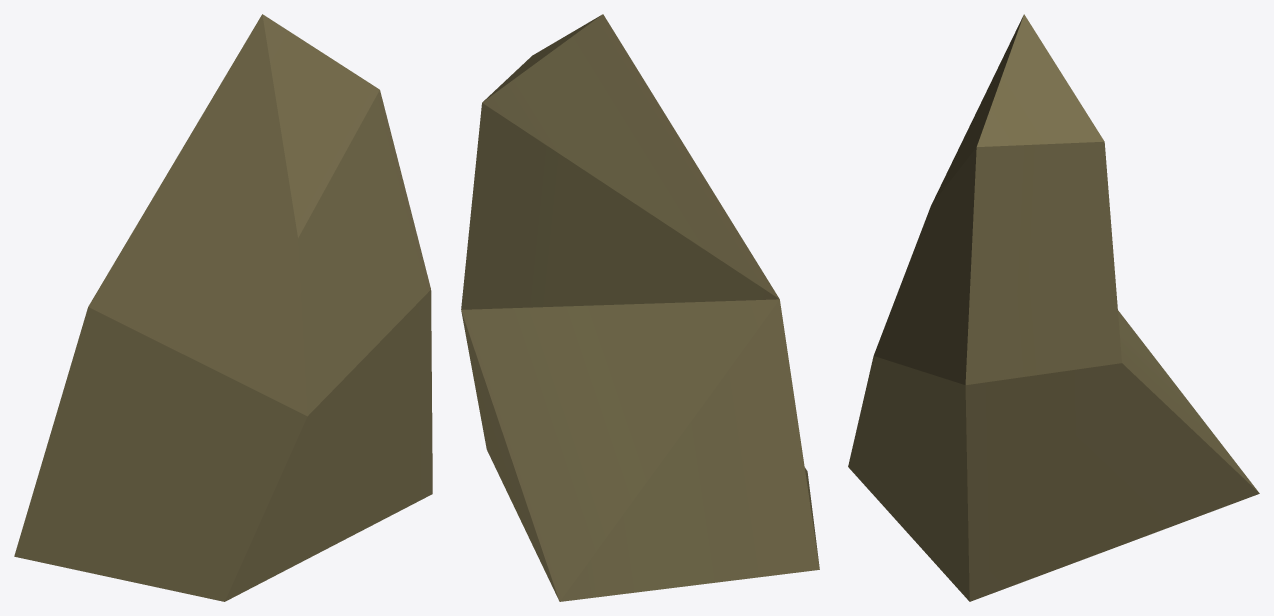
The model's file is Rock_02.fbx.
3 renders of one model, left to right at view 1: azimuth 30°, elevation 25°; view 2: azimuth 150°, elevation 25°; view 3: azimuth 270°, elevation 25°, orthographic. The views are drawn at different scales.
Parts seen in each view (by area): view 1: pCube15; view 2: pCube15; view 3: pCube15.
Part boxes in pixels (x1,y1,x2,y2): pCube15: (14,14,432,601); pCube15: (461,14,819,601); pCube15: (848,14,1259,601).
Bounding box in the file's own units: 3.66 × 4.58 × 3.32.
1 material, 1 textured.
